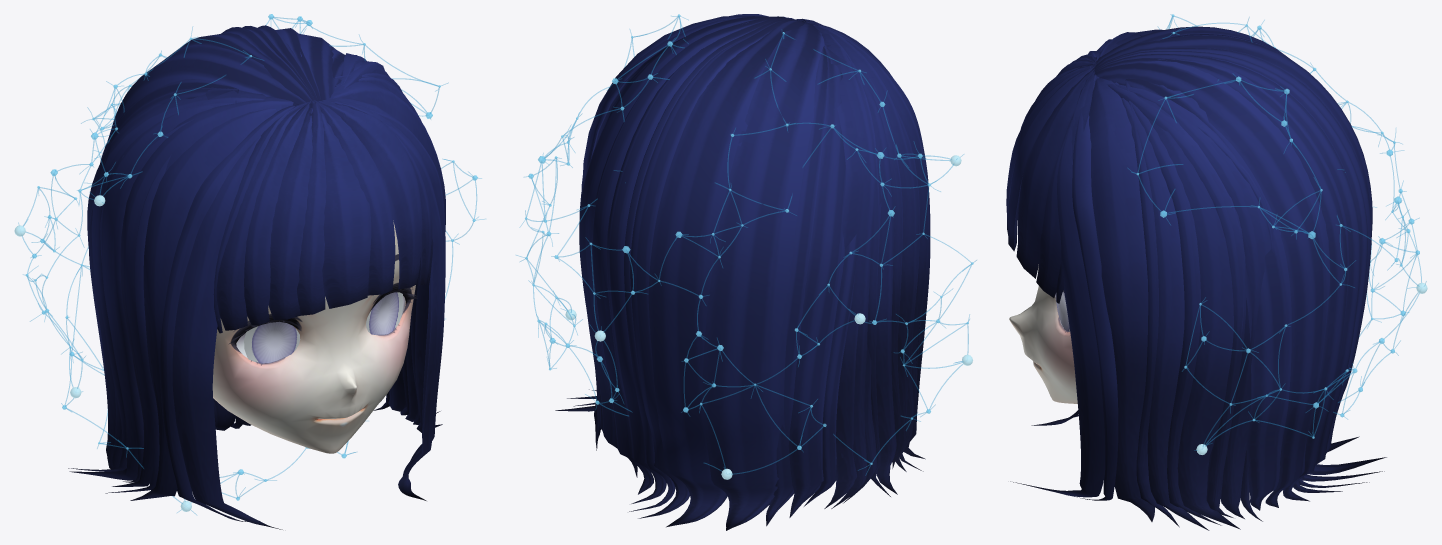
File: imprint-iris.glb
3 renders of one model, left to right at view 1: azimuth 30°, elevation 25°; view 2: azimuth 150°, elevation 25°; view 3: azimuth 270°, elevation 25°, orthographic.
Visible parts, largest first — view 1: Echo_Hair, Echo_Face, Echo_Synapses, Echo_EyeR, Echo_EyeL, Echo_Neurons; view 2: Echo_Hair, Echo_Synapses, Echo_Neurons, Echo_Hubs; view 3: Echo_Hair, Echo_Synapses, Echo_Face, Echo_Neurons.
Boxes of the visible parts, left/top/right/bottom form: Echo_Hair: left=68, top=25, right=445, bottom=529; Echo_Face: left=212, top=220, right=417, bottom=453; Echo_Synapses: left=18, top=17, right=484, bottom=514; Echo_EyeR: left=244, top=321, right=300, bottom=363; Echo_EyeL: left=366, top=292, right=402, bottom=335; Echo_Neurons: left=25, top=14, right=477, bottom=500; Echo_Hair: left=555, top=14, right=930, bottom=530; Echo_Synapses: left=516, top=16, right=976, bottom=475; Echo_Neurons: left=525, top=14, right=973, bottom=464; Echo_Hubs: left=565, top=155, right=972, bottom=479; Echo_Hair: left=1006, top=26, right=1386, bottom=530; Echo_Synapses: left=1128, top=14, right=1426, bottom=450; Echo_Face: left=1009, top=264, right=1077, bottom=403; Echo_Neurons: left=1136, top=14, right=1419, bottom=438.
Size of the model in its own units: 2.71 by 2.66 by 2.22.
13 materials, 10 textured.
